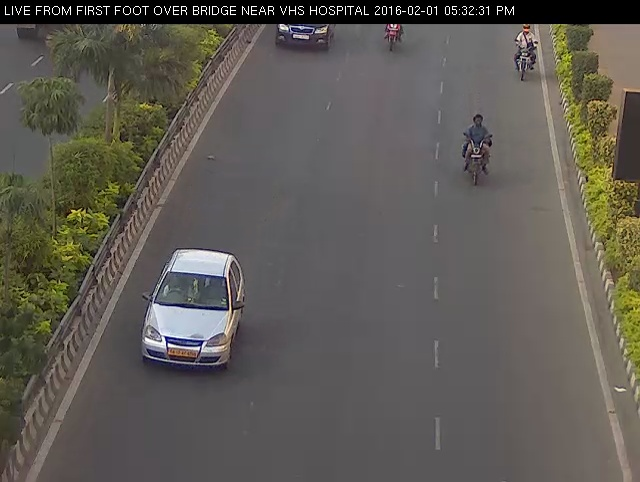Car: (132, 235, 257, 380), (265, 20, 341, 57)
Person: (451, 110, 500, 199), (505, 15, 542, 90), (378, 12, 408, 55)
